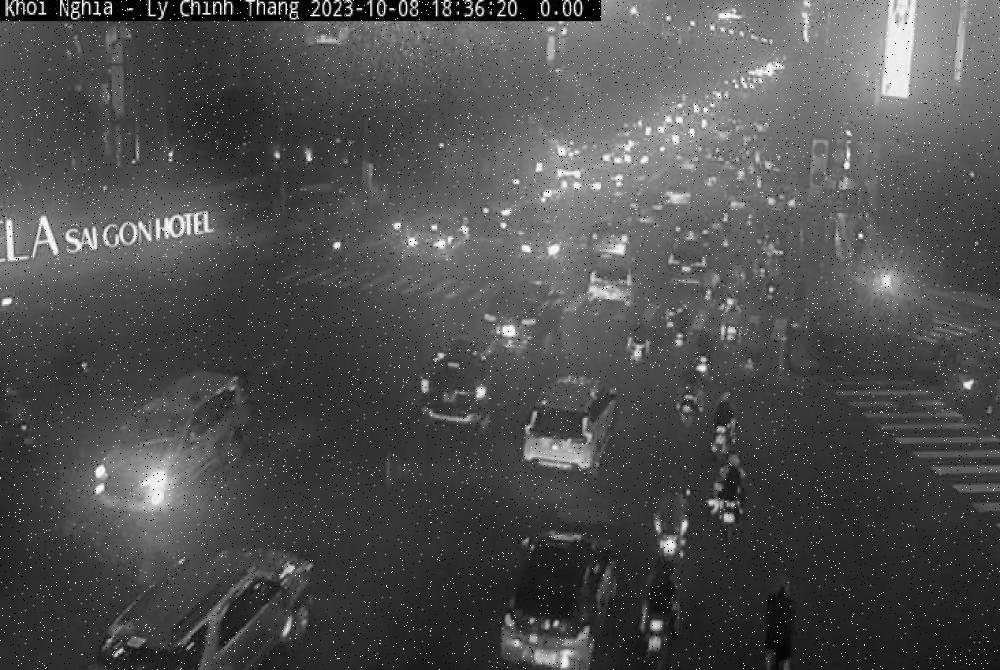car: (52, 346, 326, 539), (74, 525, 328, 670), (484, 517, 626, 670), (493, 364, 634, 484), (398, 308, 514, 440), (467, 267, 559, 369)
